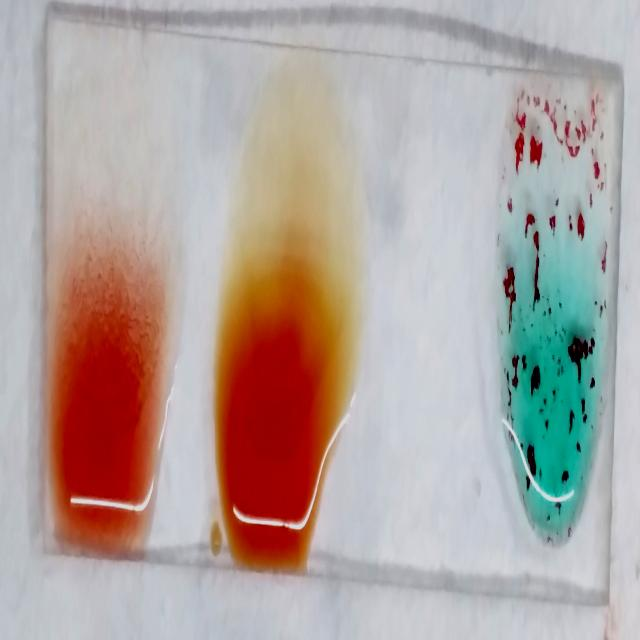A: (500, 96, 610, 550)
D: (55, 179, 155, 539)
